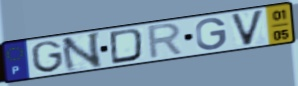D: (108, 27, 146, 66)
G: (29, 39, 66, 74), (194, 17, 229, 52)
N: (59, 30, 104, 74)
R: (147, 21, 186, 62)
V: (228, 8, 266, 48)
